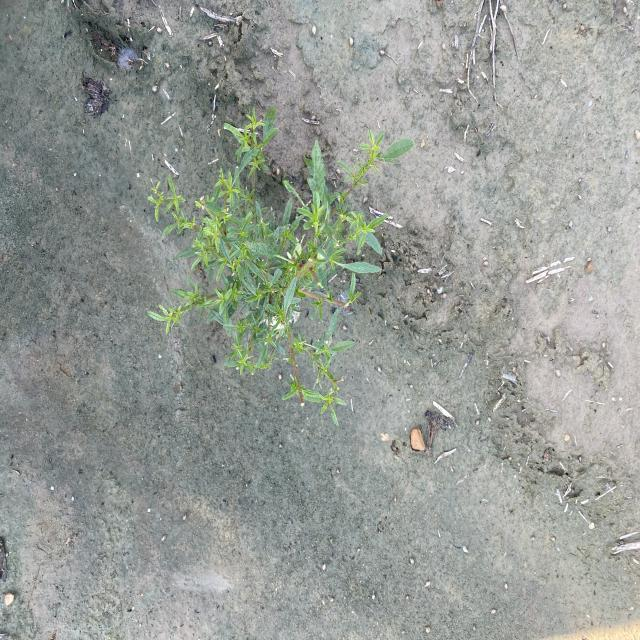Waterhemp: (145, 105, 418, 431)
